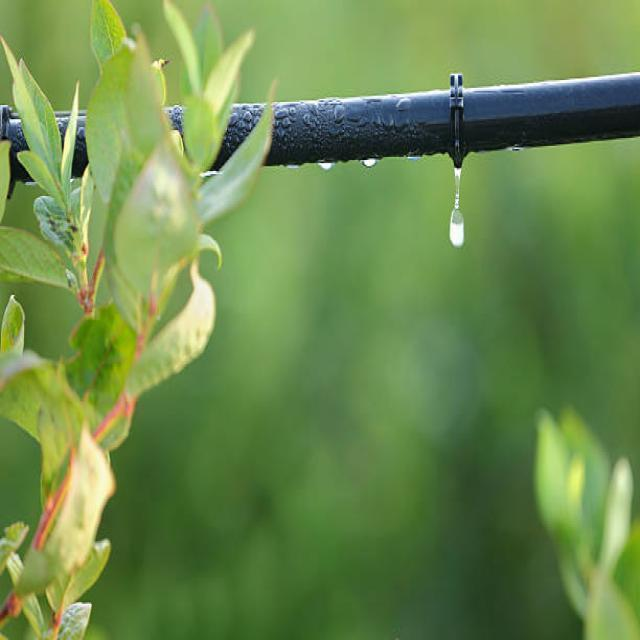water drop: (447, 155, 469, 249), (316, 156, 336, 172), (360, 156, 383, 169)
